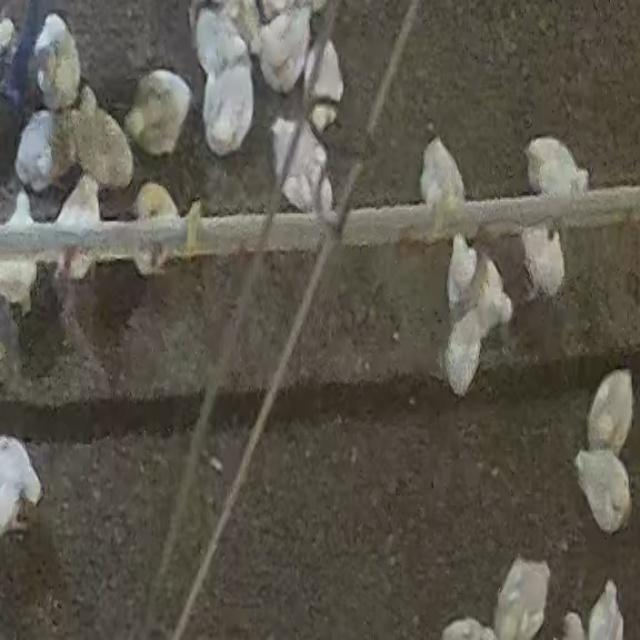chicken: (69, 90, 137, 190), (272, 115, 340, 213), (53, 170, 105, 284), (124, 71, 191, 158), (446, 239, 512, 327), (254, 4, 314, 96), (202, 61, 257, 157), (191, 2, 251, 82), (416, 130, 473, 214), (574, 448, 628, 536), (130, 184, 182, 274), (0, 190, 38, 312), (438, 306, 488, 396), (496, 557, 550, 640), (527, 131, 591, 195), (587, 370, 635, 455), (15, 111, 61, 193), (518, 228, 560, 307), (306, 40, 344, 118)
